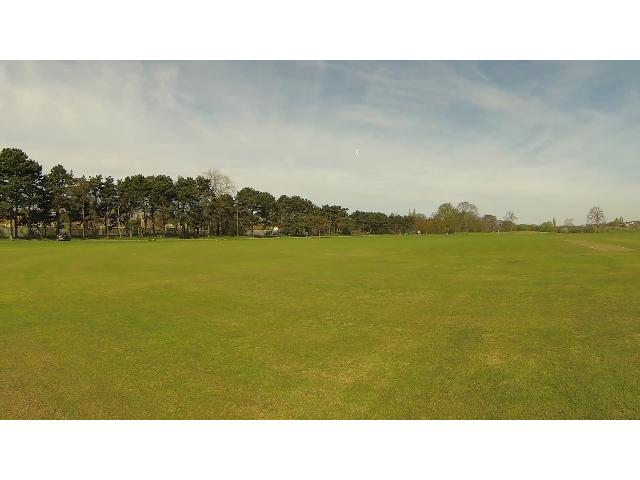Anti-Drone: (353, 146, 361, 158)
